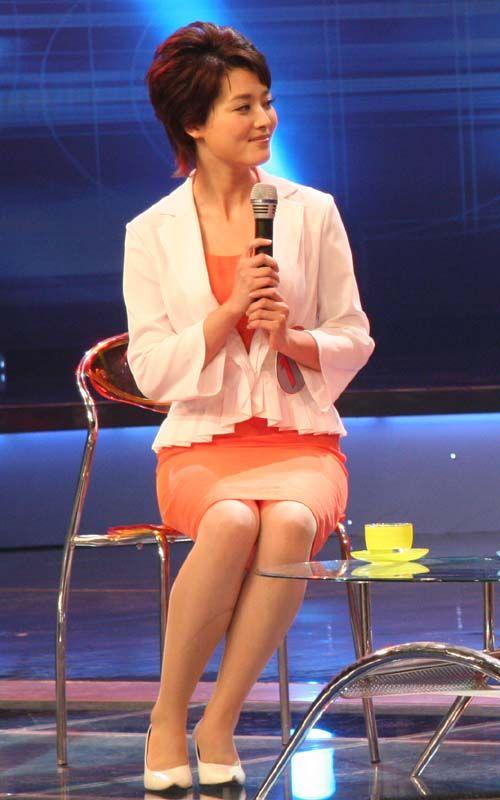no_mask: (139, 19, 279, 174)
